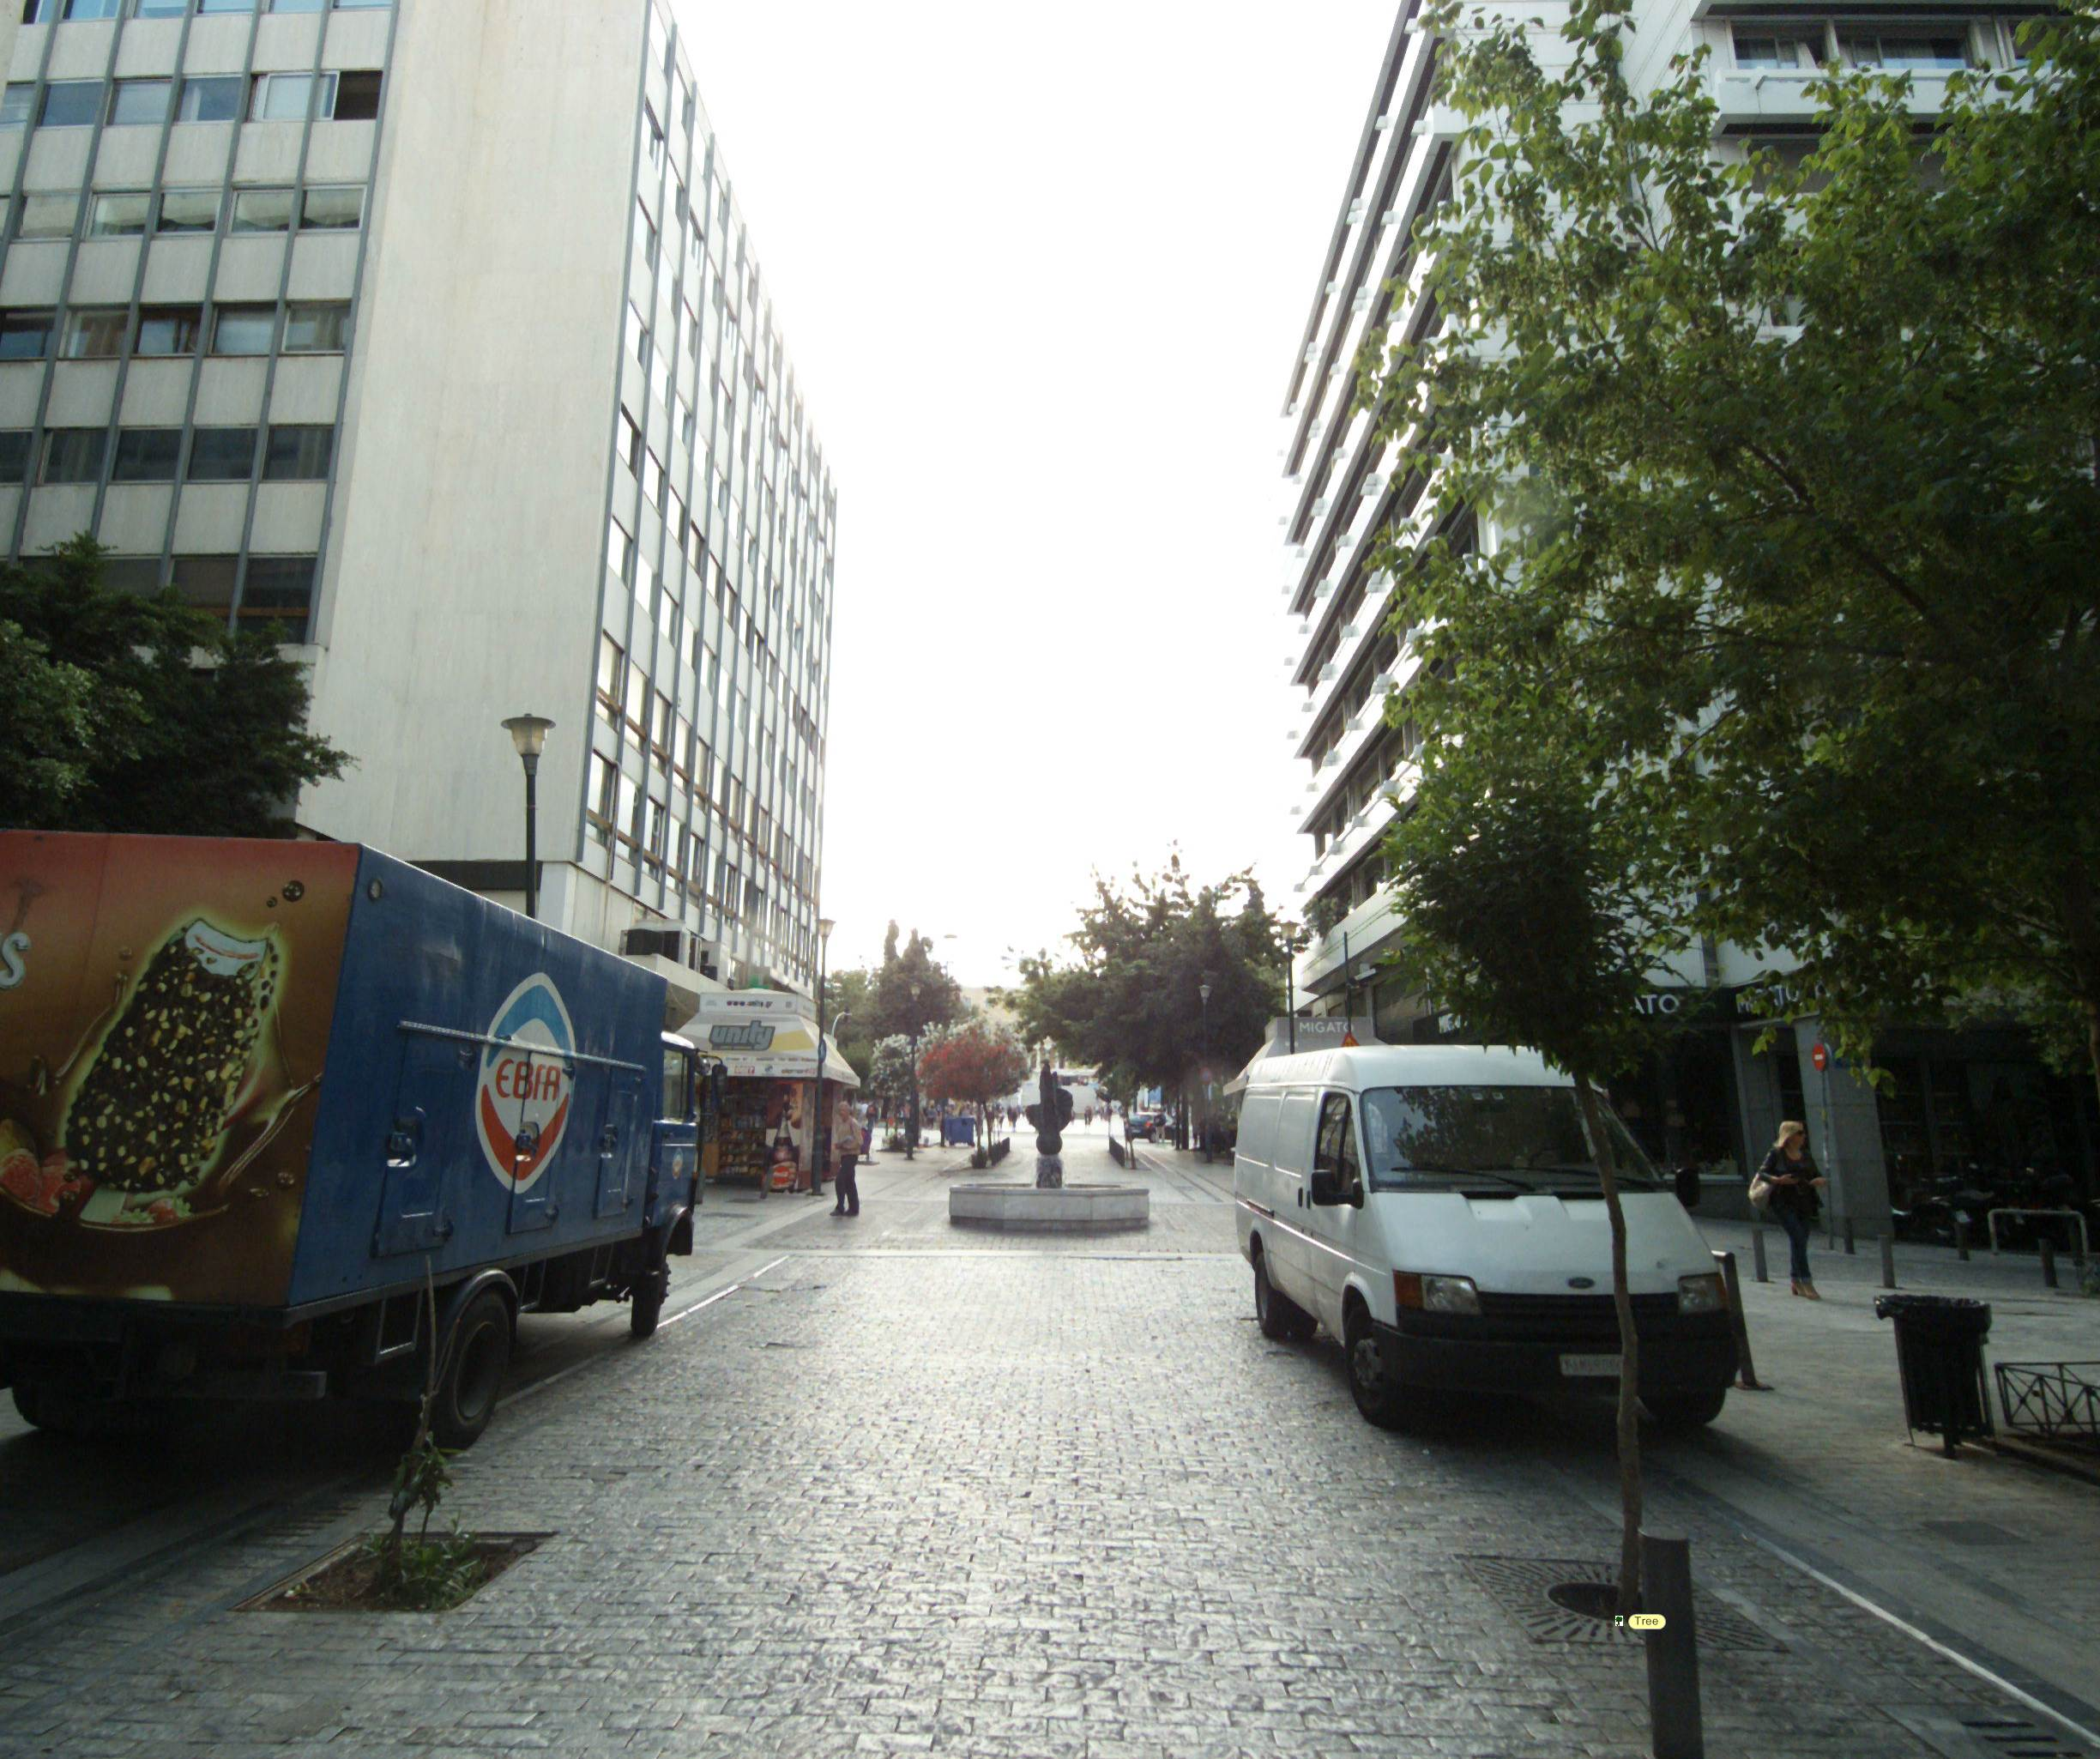tree: (1357, 541, 1760, 1703)
